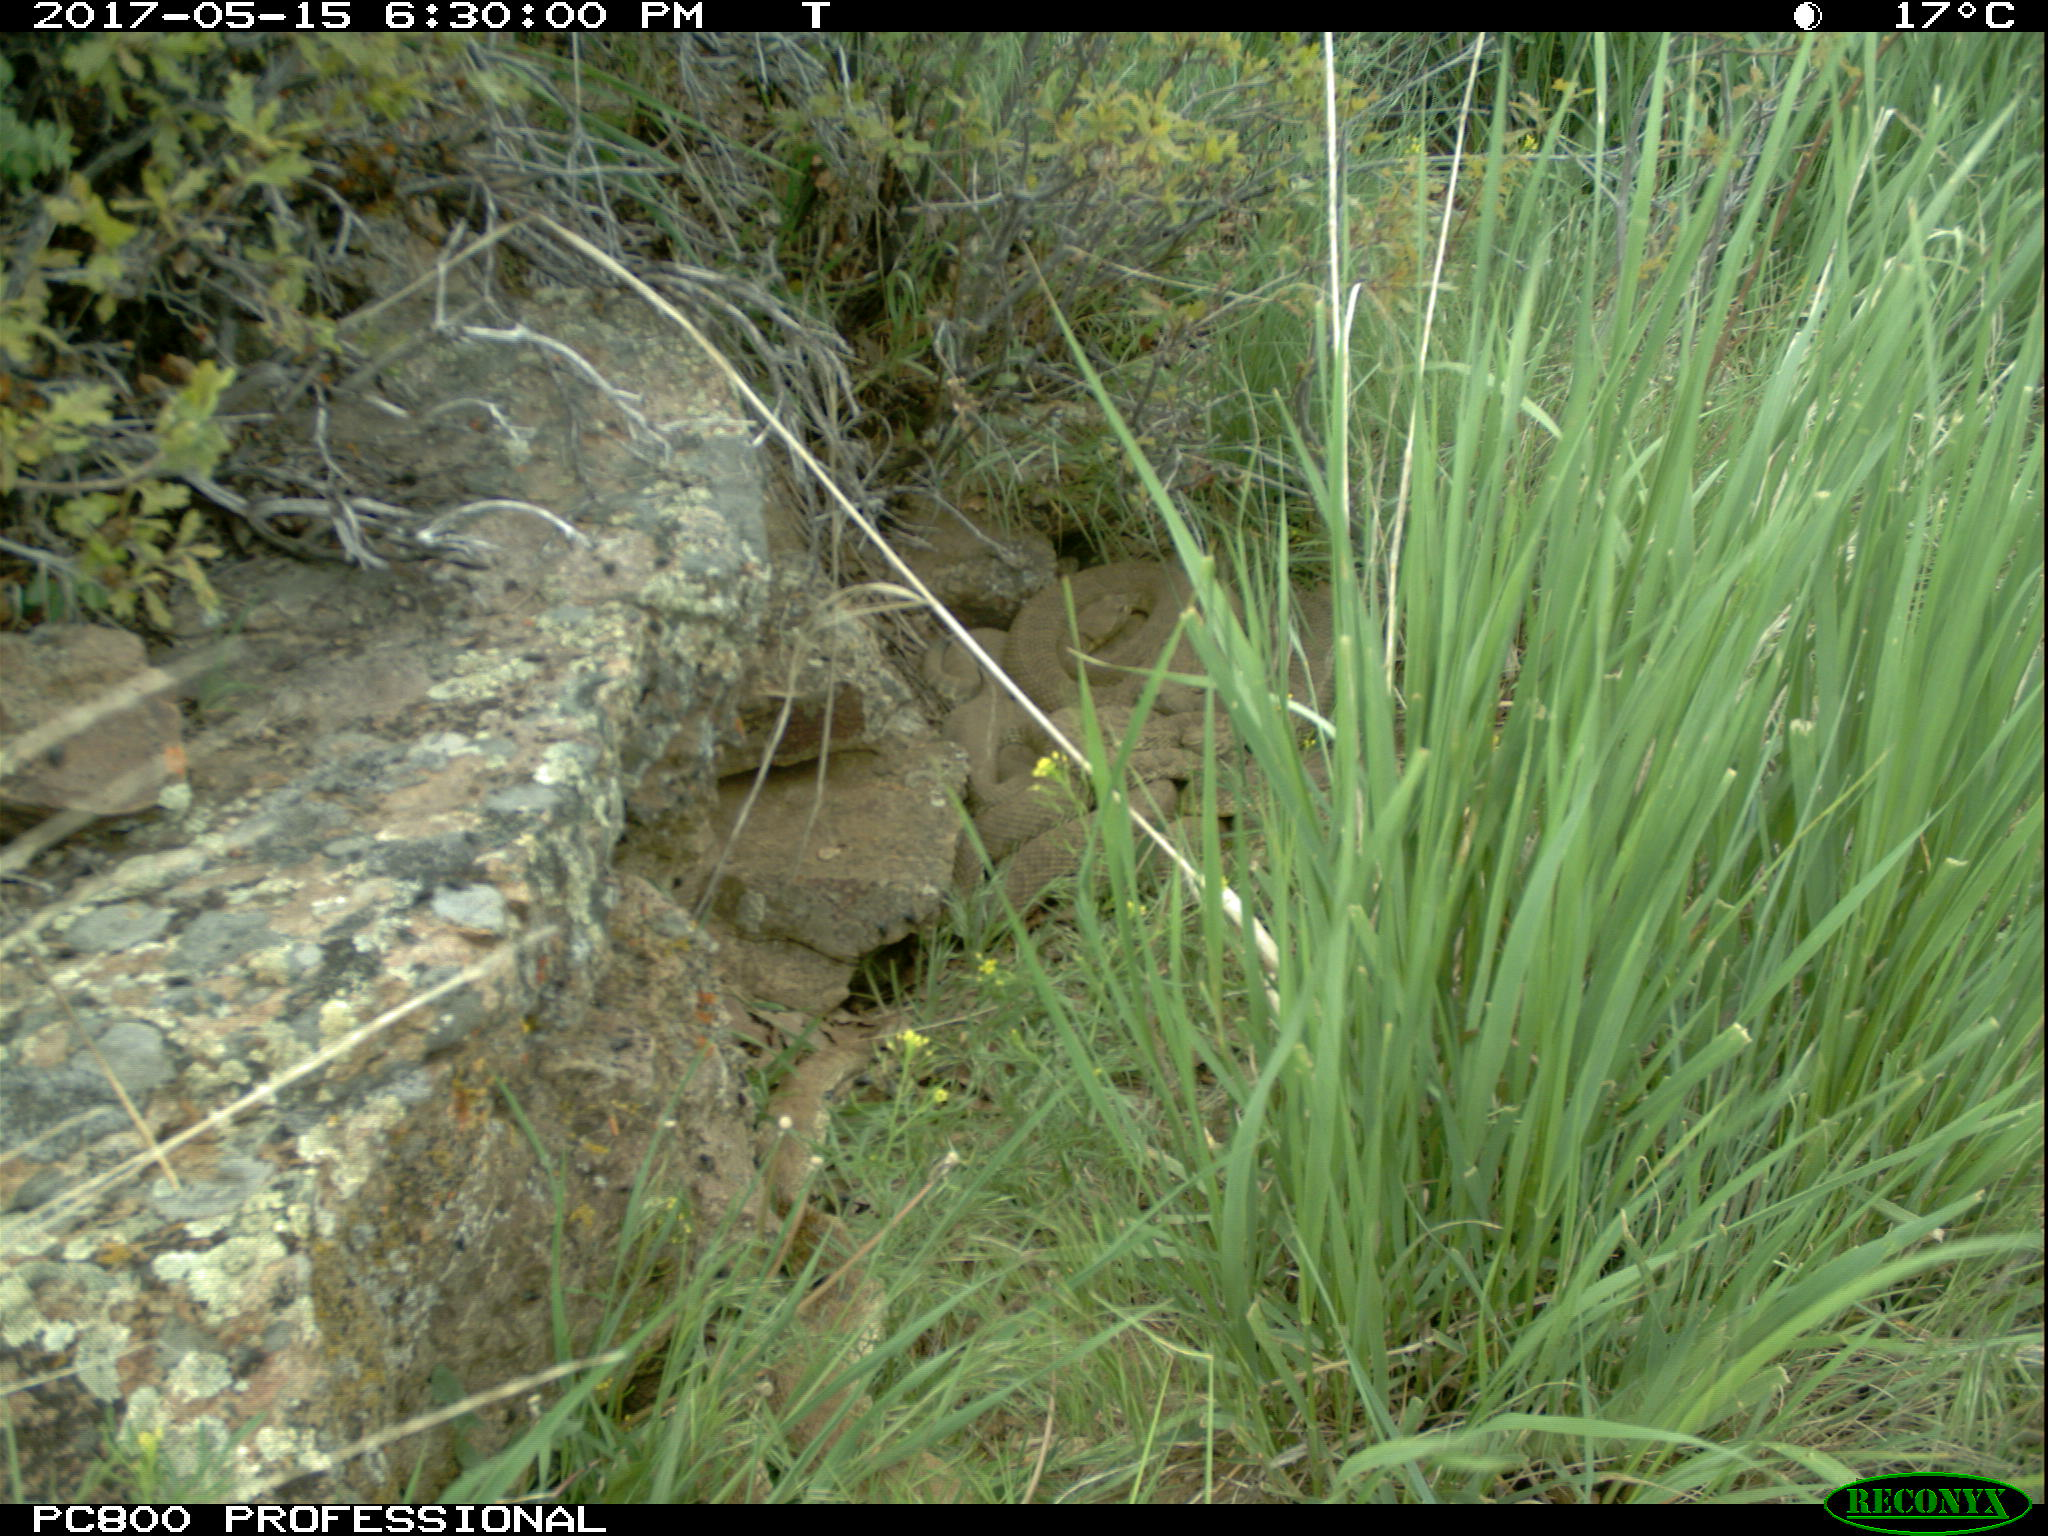snake: (760, 1044, 914, 1494), (1001, 553, 1235, 721), (953, 795, 1166, 912), (1095, 712, 1280, 815), (914, 631, 1027, 800)
